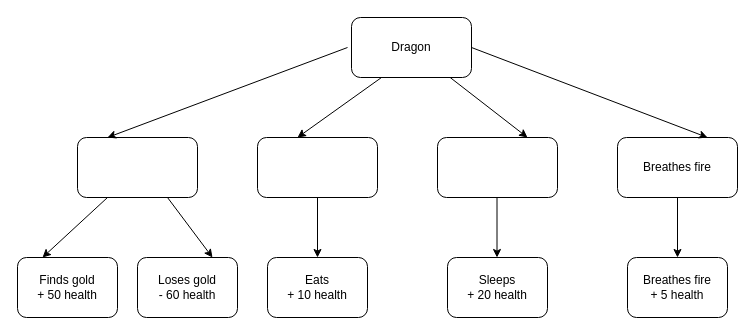
Image size: 755x335. Some labels were removed from this diagram. Here are the shapes that lost their labels. From the top down, the box of each, then its label:
(76, 136, 198, 198): Gold
(256, 136, 378, 198): Eats
(436, 136, 558, 198): Sleeps
